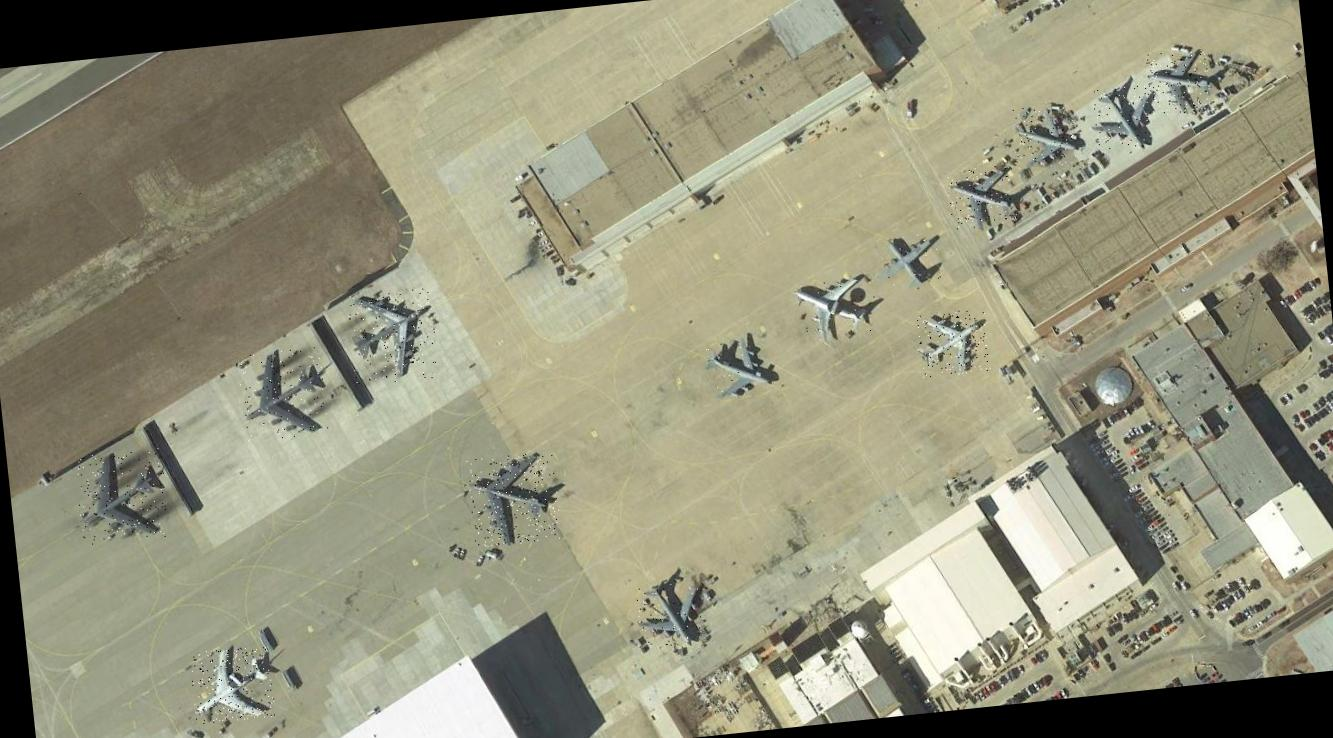A11: (916, 308, 990, 378)
A14: (945, 164, 1018, 230), (634, 581, 704, 648), (1144, 48, 1211, 116), (1012, 102, 1078, 170), (704, 336, 774, 398), (1090, 84, 1153, 151)
A2: (878, 229, 943, 287)
A7: (187, 644, 275, 724), (792, 274, 878, 344)
A8: (73, 447, 170, 545), (465, 449, 561, 548), (346, 288, 440, 386), (236, 346, 329, 442)
